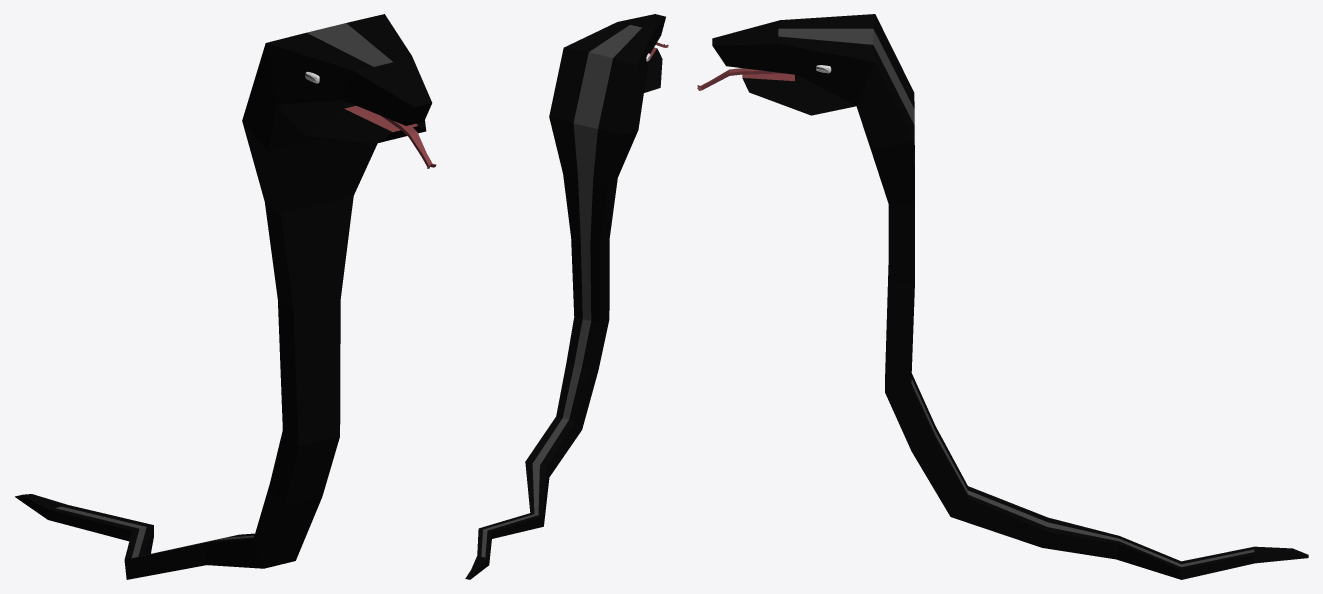
The model's file is black_snake.fbx.
3 renders of one model, left to right at view 1: azimuth 30°, elevation 25°; view 2: azimuth 150°, elevation 25°; view 3: azimuth 270°, elevation 25°, orthographic. The views are drawn at different scales.
Visible parts, largest first — view 1: black_snake; view 2: black_snake; view 3: black_snake.
Part boxes in pixels (x1,y1,x2,y2): black_snake: (15, 14, 436, 579); black_snake: (465, 14, 668, 579); black_snake: (697, 14, 1308, 579).
Size of the model in its own units: 0.4395 by 2.31 by 2.36.
